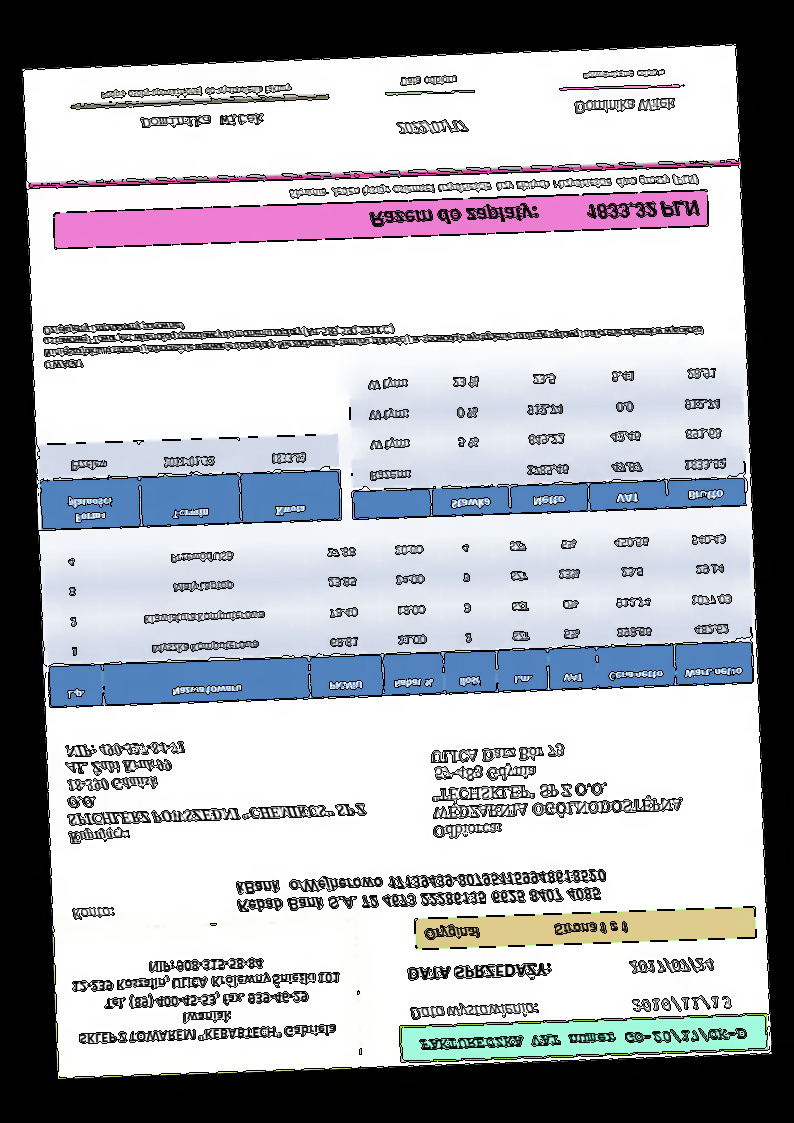Table: (41, 518, 755, 712), (345, 354, 747, 521), (37, 433, 341, 532)
TextBox: (39, 299, 704, 374), (63, 730, 371, 846), (428, 733, 688, 844), (70, 949, 346, 1051), (232, 863, 610, 918), (287, 172, 703, 203), (365, 196, 703, 232), (415, 1026, 753, 1055), (420, 916, 631, 944), (98, 81, 293, 102), (405, 960, 554, 986), (408, 999, 540, 1025), (136, 110, 267, 132), (572, 95, 679, 118), (630, 994, 732, 1017), (626, 953, 714, 978), (395, 115, 474, 141), (581, 64, 667, 84), (68, 901, 120, 926), (395, 72, 459, 89)
